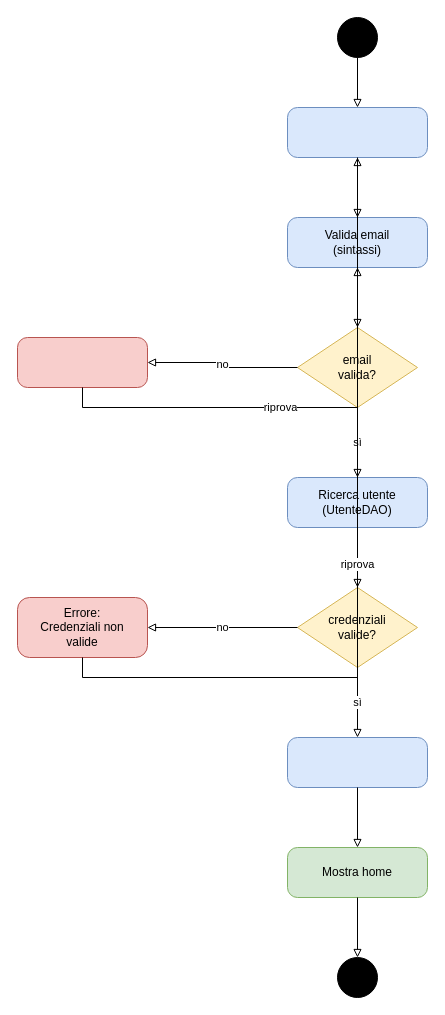
Some shapes in this 445 by 1015 pixel diagram are drawn without their labels. The box of each missing label's shape, as (x1, y1, x2, y2) in pixels:
Errore: Email non valida: (16, 336, 148, 388)
Imposta sessione (SessionManager): (286, 736, 428, 788)
Inserisci email e password: (286, 106, 428, 158)
